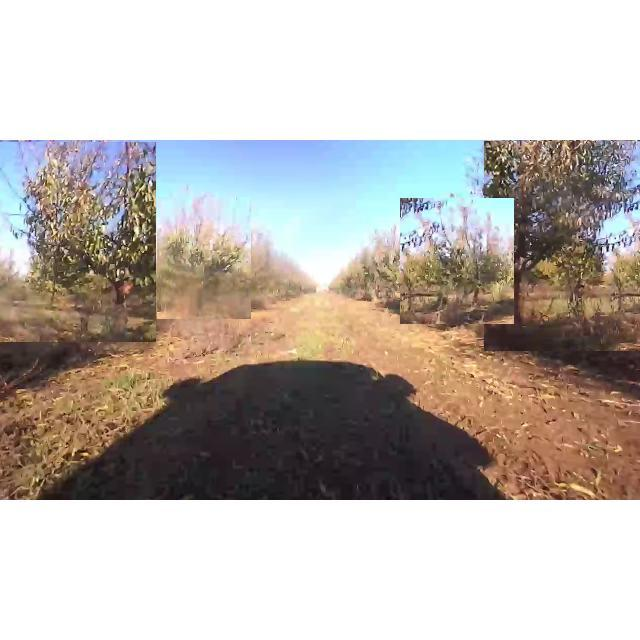tree: (484, 141, 640, 351), (0, 142, 156, 342), (400, 198, 514, 324), (157, 197, 251, 319)
